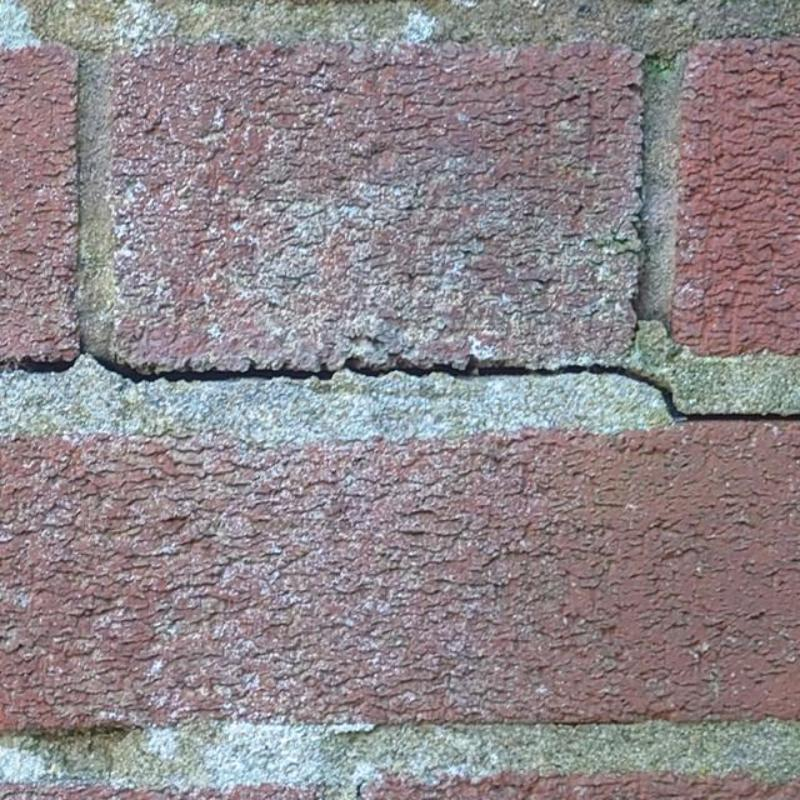pothole: (94, 356, 800, 421), (19, 361, 73, 372)
